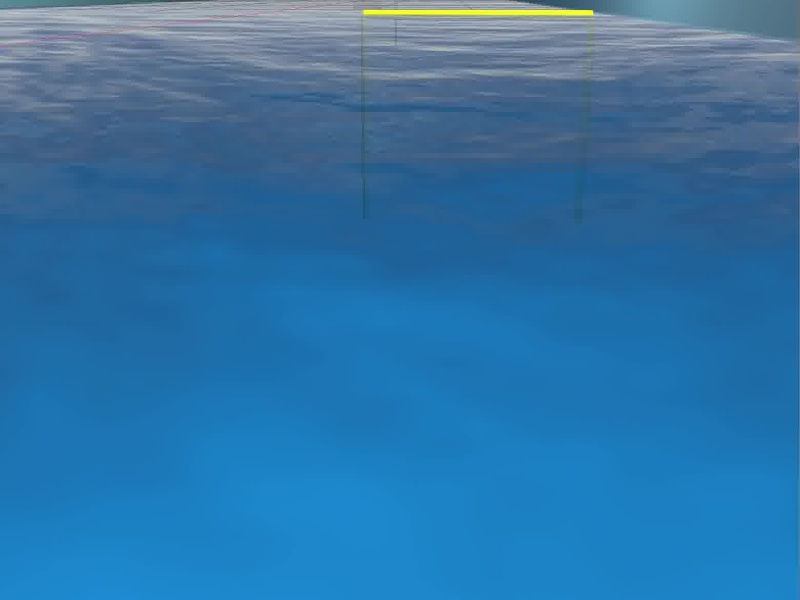gate: (361, 7, 592, 234)
